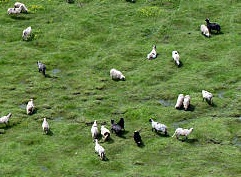sheep: (200, 87, 217, 109), (149, 118, 168, 137), (172, 126, 195, 141), (204, 18, 223, 33), (13, 1, 31, 16), (1, 112, 15, 131), (99, 121, 112, 141), (109, 68, 126, 82), (111, 118, 123, 137), (93, 142, 105, 161), (24, 98, 37, 115), (131, 130, 143, 148), (88, 119, 100, 137), (8, 3, 25, 15), (146, 44, 158, 60), (41, 117, 52, 134), (21, 26, 34, 40), (171, 50, 181, 68), (200, 23, 211, 39), (36, 60, 48, 74), (182, 93, 191, 111), (174, 92, 183, 108), (116, 116, 125, 132)
